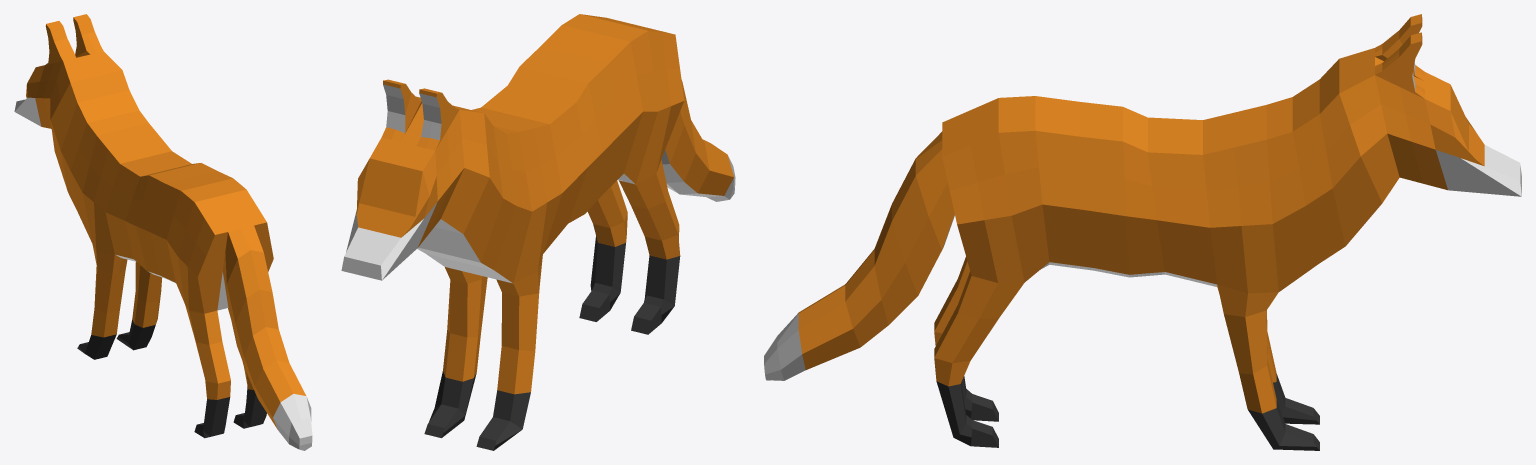
File: zorro.glb
3 renders of one model, left to right at view 1: azimuth 30°, elevation 25°; view 2: azimuth 150°, elevation 25°; view 3: azimuth 270°, elevation 25°, orthographic. The views are drawn at different scales.
Parts seen in each view (by area): view 1: Plane; view 2: Plane; view 3: Plane.
Part boxes in pixels (<box>): Plane: <box>14,14,312,450</box>; Plane: <box>341,14,735,450</box>; Plane: <box>764,14,1521,450</box>.
Size of the model in its own units: 1.45 by 5.4 by 9.14.
